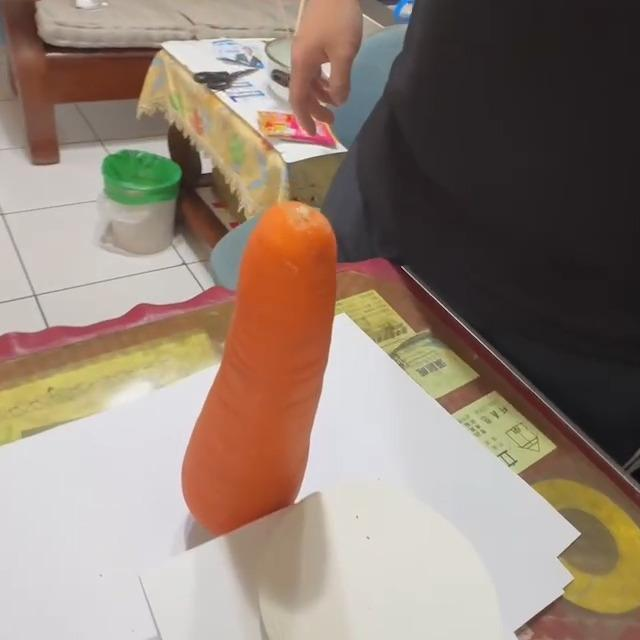carrot: (181, 202, 341, 539)
